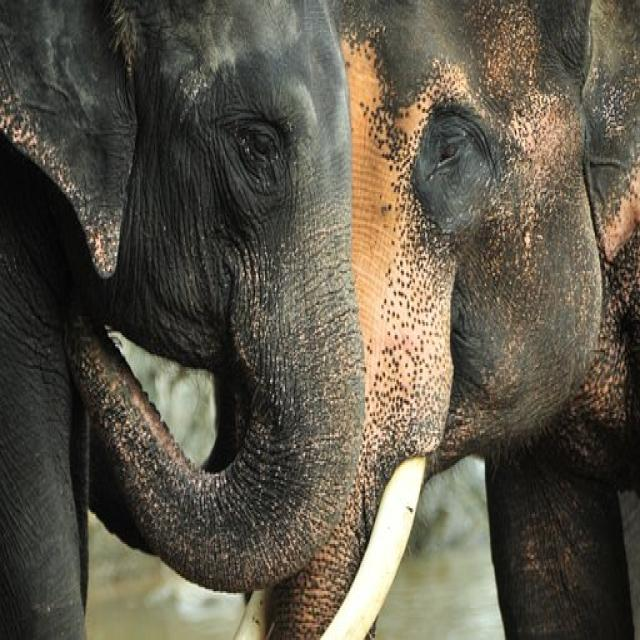Elephant: (295, 13, 640, 640), (15, 0, 364, 617)
